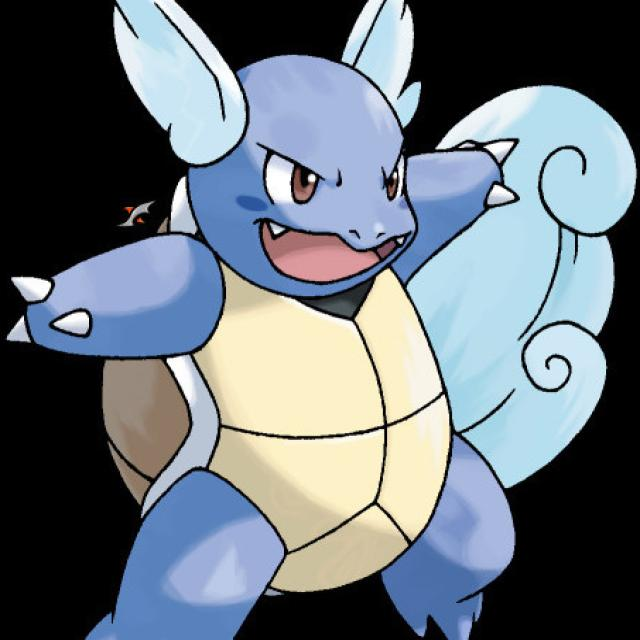Wartortle: (67, 9, 527, 640)
